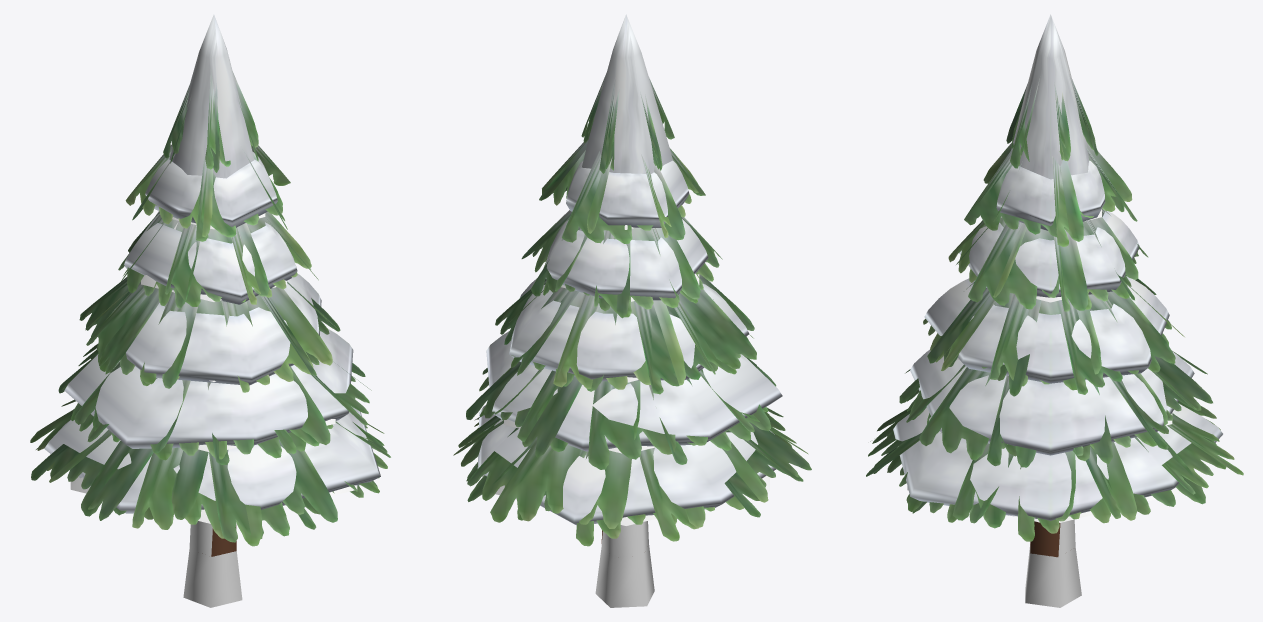
The model's file is conifer-cedar-snow.lod1.glb.
The picture shows the model from 3 angles, left to right: view 1: azimuth 30°, elevation 25°; view 2: azimuth 150°, elevation 25°; view 3: azimuth 270°, elevation 25°; orthographic projection.
Parts seen in each view (by area): view 1: Crown, Stem, Hull; view 2: Crown, Stem, Hull; view 3: Crown, Stem, Trunk.
Boxes of the visible parts, left/top/right/bottom form: Crown: left=30, top=14, right=390, bottom=546; Stem: left=183, top=521, right=242, bottom=607; Hull: left=70, top=213, right=357, bottom=523; Crown: left=453, top=14, right=811, bottom=546; Stem: left=595, top=521, right=654, bottom=607; Hull: left=482, top=225, right=769, bottom=525; Crown: left=866, top=14, right=1243, bottom=541; Stem: left=1025, top=519, right=1081, bottom=607; Trunk: left=1030, top=521, right=1060, bottom=557.
Bounding box in the file's own units: 2.48 × 4.11 × 2.52.
Materials: 4 (1 with a texture image).
